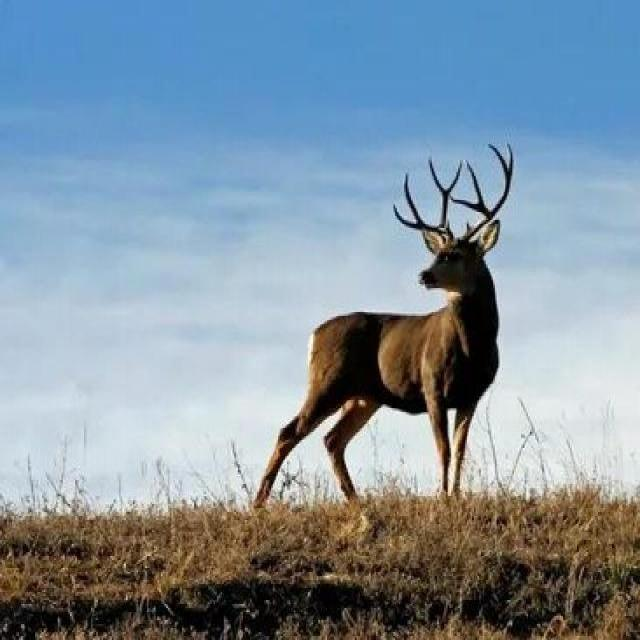deer: (246, 119, 536, 532)
